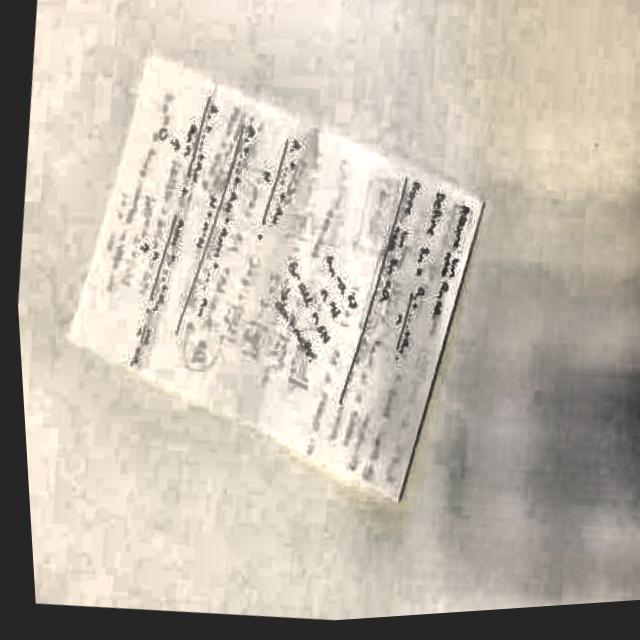Paper: (32, 31, 509, 533)
